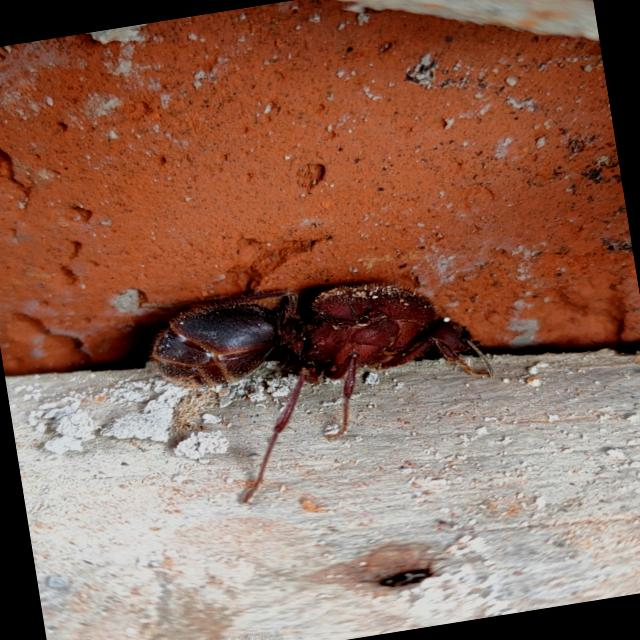Alive-Female-Dealate: (143, 255, 509, 515)
